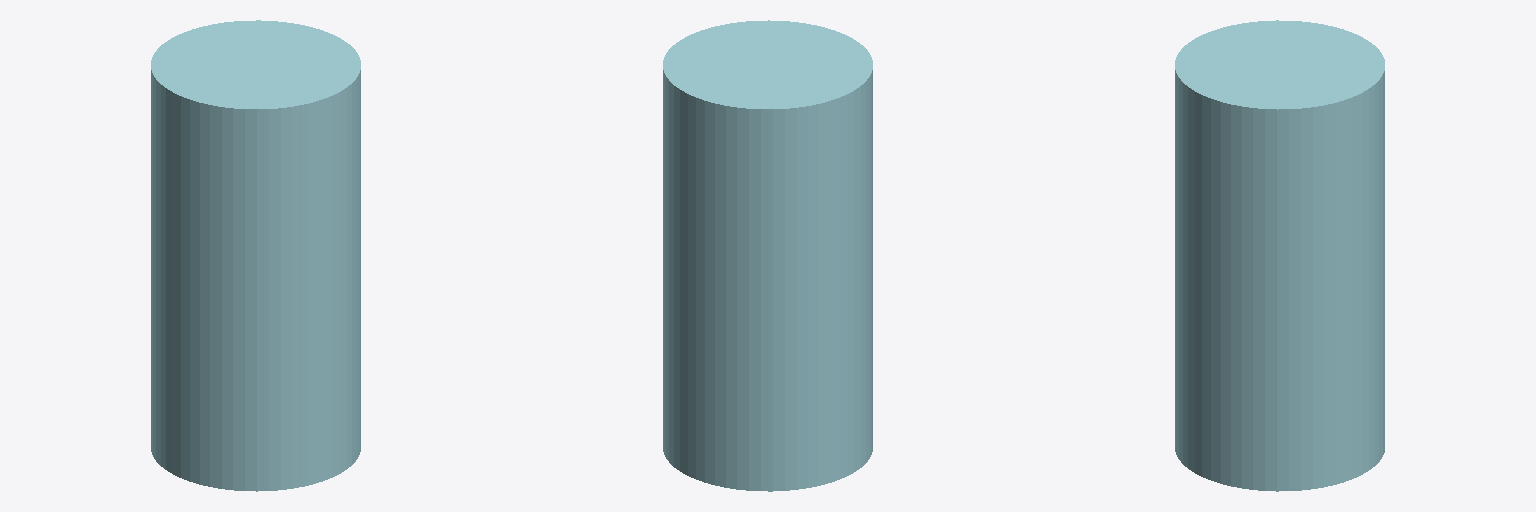
The robot description file, URDF, robot "objects":
<?xml  version="1.0"?>
<robot name ="objects"> 
    <!-- Author: [author]; e-mail:[email redacted]. The urdf file was develped in tongji university.-->

    <!--create  color params-->
    <material name ="LightGrey">
        <color rgba="0.7 0.7 0.7 1.0"/>
    </material>

    <material name ="White">
        <color rgba="1 1 1 1.0"/>
    </material>

    <material name ="Green">
        <color rgba="0.1 0. 1.0 1.0"/>
    </material>

    <material name ="Yellow">
        <color rgba="1. 1. 0. 1.0"/>
    </material>

    <material name ="Orange">
        <color rgba="1. 0.38 0. 1.0"/>
    </material>

    <material name ="Blue">
        <color rgba="0.69 0.87 0.9 1.0"/>
    </material>

    <mass name ="table_mass">
        <mass value="1.0"/>
    </mass>

    <mass name ="cylander_mass">
        <mass value="2.0"/>
    </mass>



    <link  name ="World"/>

    <joint name="cylinder1_to_world" type="floating">
        <parent link="World"/>
        <child link="cylinder1"/>
        <origin xyz="0. 0. 0." rpy="0.0 0.0 0.0"/>
    </joint>

    <link name = "cylinder1">
        <contact>
            <lateral_friction value="0.05"/>
            <rolling_friction value="0.0"/>
            <contact_erp value="1.0"/>
        </contact>
        <visual>
            <origin  xyz="0.0 0.0 0.0" rpy="0.0 0.0 0.0"/>
            <geometry>
                <mesh filename = "meshes/cylinder.dae"/>
            </geometry >
            <material name ="Blue"/>
        </visual>
        <collision>
            <origin xyz="0.0 0.0 0.0" rpy="0.0 0.0 0.0"/>
            <geometry>
                <mesh filename ="meshes/cylinder.dae"/>
            </geometry>
        </collision>
        <inertial>
            <mass value = "0.5"/>
            <inertia ixx="1" ixy="0.0" ixz="0.0" iyy="1" iyz="0.0" izz="1"/>
        </inertial>
    </link>
</robot>

--- What the picture shows (computed from the rendered views, not written in the file) ---
3 views of the same robot in one strip: view 1: azimuth 30°, elevation 25°; view 2: azimuth 150°, elevation 25°; view 3: azimuth 270°, elevation 25° (orthographic).
Model objects with 2 links and 1 joints (1 floating), rooted at World, posed all joints at 0.
Links seen in each view (by area): view 1: cylinder1; view 2: cylinder1; view 3: cylinder1.
Link boxes in pixels (box(x1,y1,x2,y2)): cylinder1: box(151, 20, 360, 491); cylinder1: box(663, 20, 872, 491); cylinder1: box(1175, 20, 1384, 491).
Size in the robot's own frame: 0.1 by 0.1 by 0.2 metres.
Meshes: 1 distinct files referenced, 1 mesh visuals loaded (1 Collada DAE).